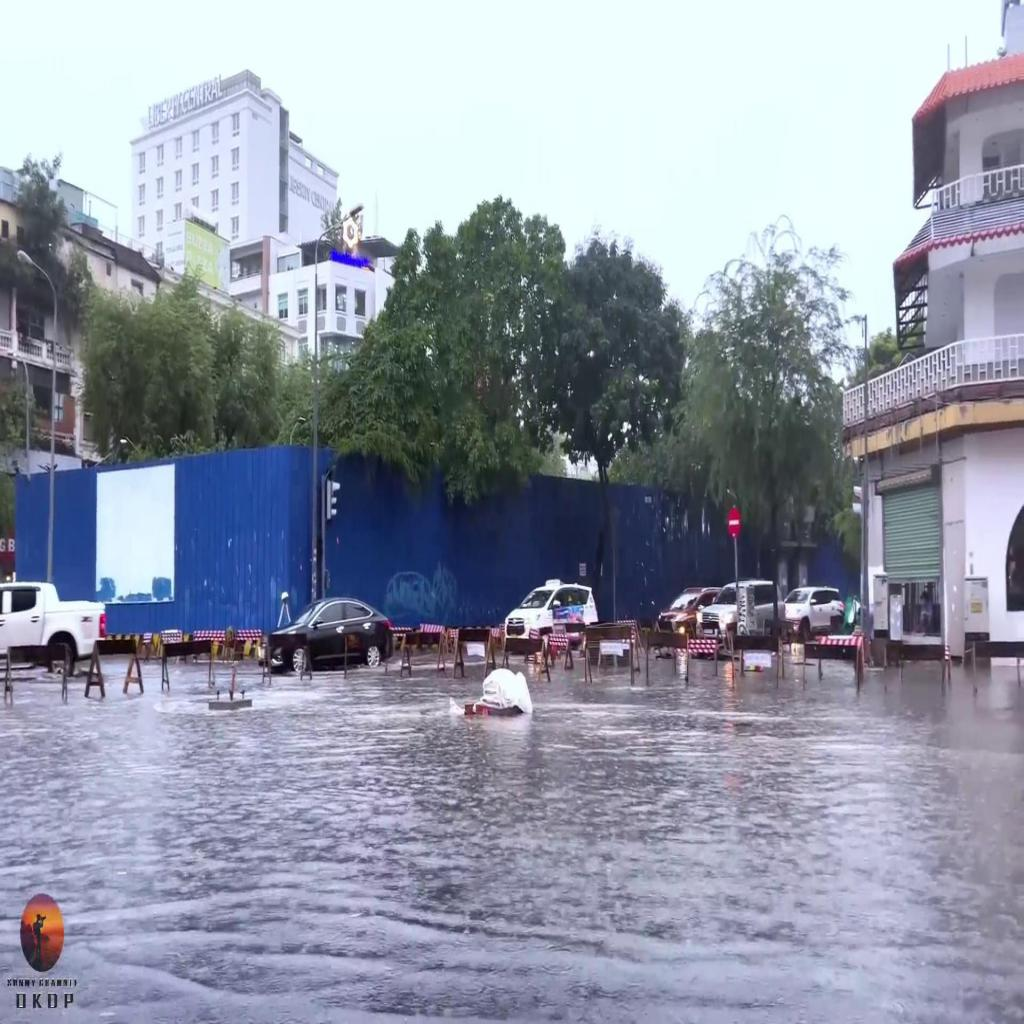cam_xe_di_nguoc_chieu: (727, 510, 740, 537)
